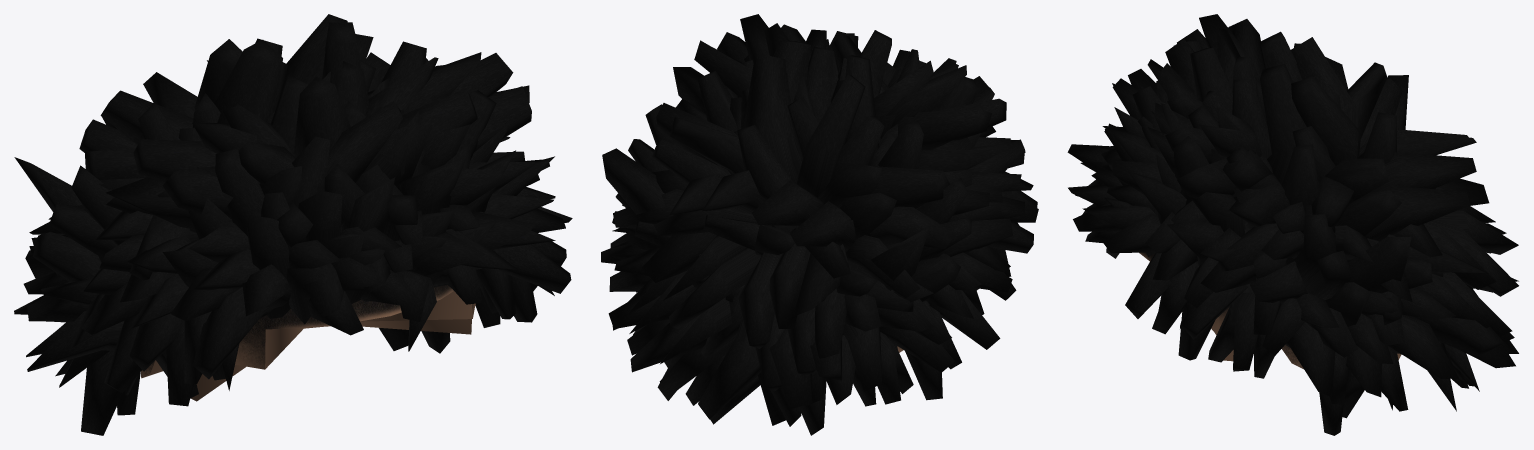
File: 39-Freeform-Afro-73155099277090.glb
3 views of the same model, side by side, from view 1: azimuth 30°, elevation 25°; view 2: azimuth 150°, elevation 25°; view 3: azimuth 270°, elevation 25° (orthographic). The views are drawn at different scales.
Visible parts, largest first — view 1: 39-Freeform-Afro-73155099277090; view 2: 39-Freeform-Afro-73155099277090; view 3: 39-Freeform-Afro-73155099277090.
Part boxes in pixels (box(x1,y1,x2,y2)): 39-Freeform-Afro-73155099277090: box(14, 14, 572, 435); 39-Freeform-Afro-73155099277090: box(601, 14, 1038, 435); 39-Freeform-Afro-73155099277090: box(1067, 14, 1518, 435).
Size of the model in its own units: 2.1 by 1.61 by 2.01.
Materials: 1 (1 with a texture image).
